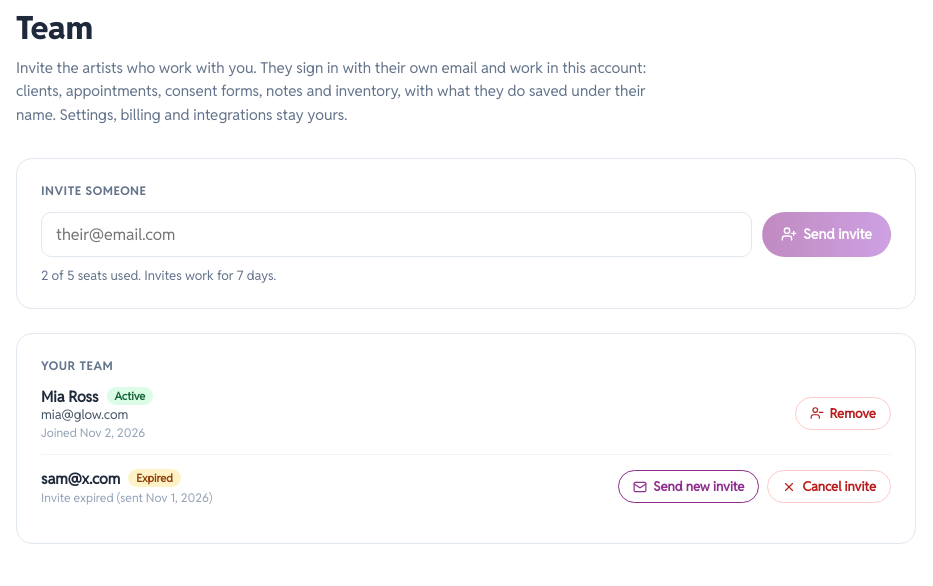
Team page › doesn't invite the owner's own email
Expected: the list is shown, [41,387,891,519]
Type "owner@glow.com" into the field named "Email to invite".
click(397, 234); type("owner@glow.com")  # box [41,212,752,257]
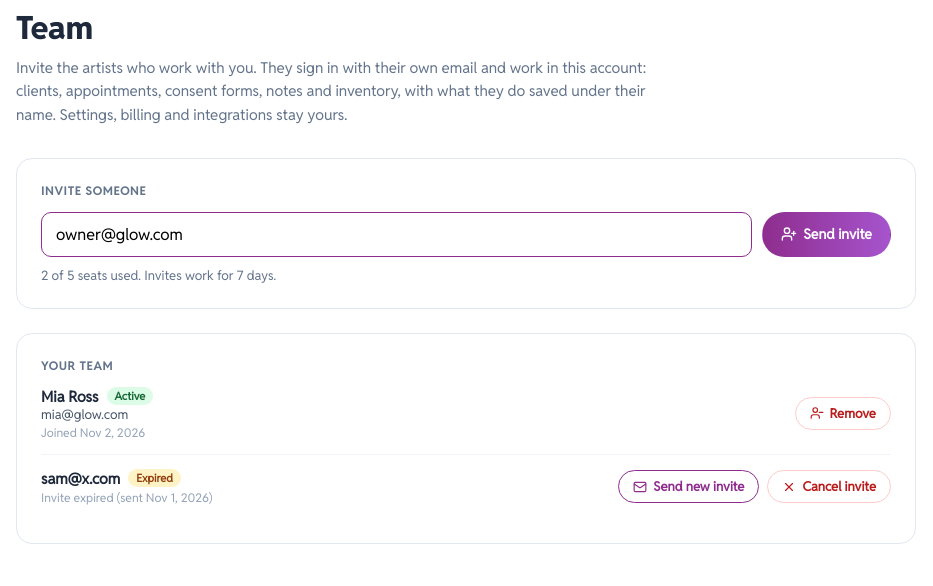
Click the button "Send invite".
click(827, 234)  # box [762,212,891,257]
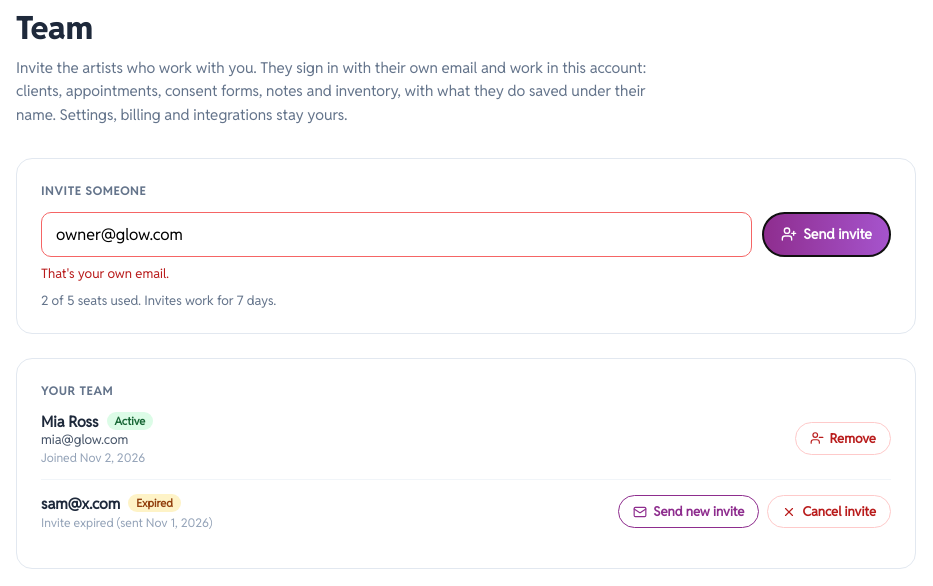
Expected: the message reads "That's your own email.", [41,265,169,282]
